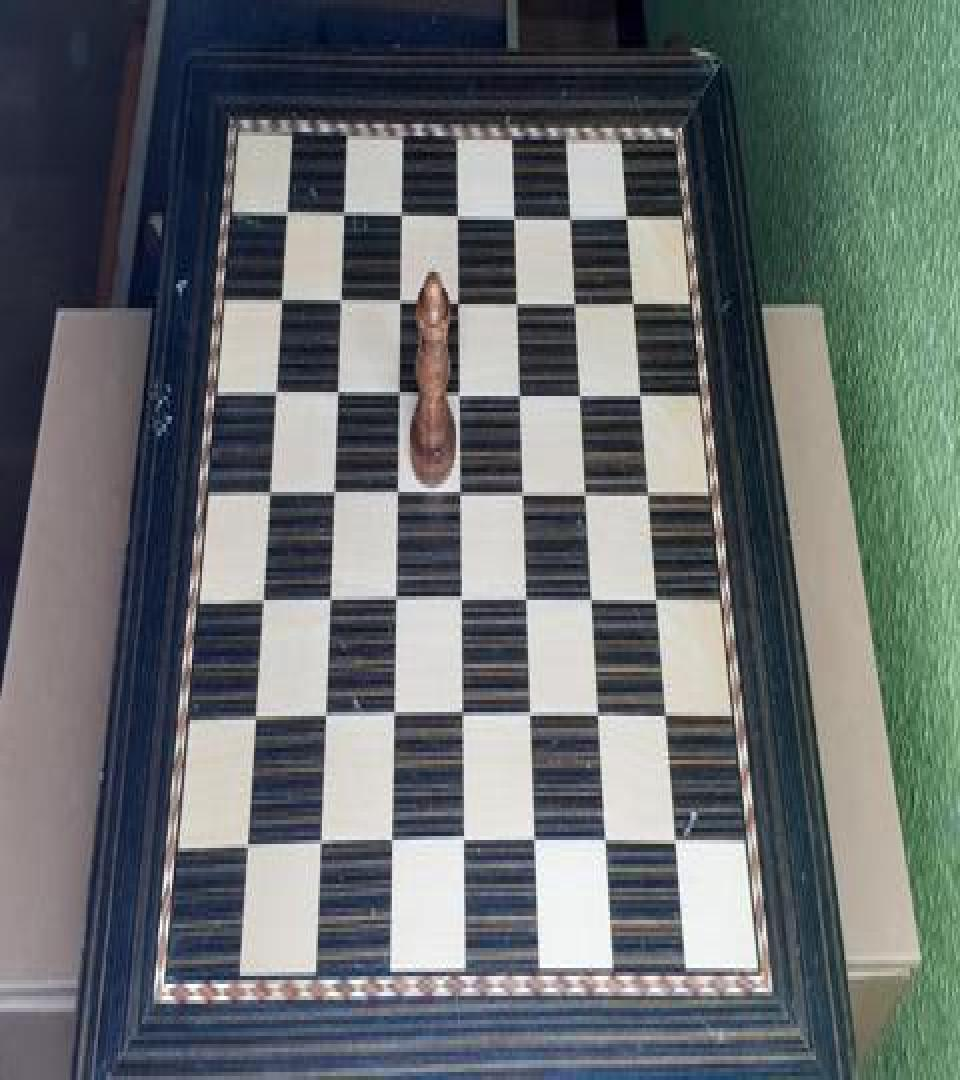xcorner: (276, 186, 294, 222), (270, 274, 288, 310), (264, 366, 282, 402), (258, 468, 276, 504), (251, 576, 269, 612), (243, 694, 261, 730), (235, 824, 253, 860), (334, 188, 352, 224), (330, 274, 348, 310), (327, 368, 345, 404), (322, 468, 340, 504), (318, 578, 336, 614), (313, 696, 331, 732), (308, 824, 326, 860), (392, 188, 410, 224), (390, 276, 408, 312), (389, 368, 407, 404), (387, 470, 405, 506), (385, 578, 403, 614), (383, 696, 401, 732), (381, 824, 399, 860), (449, 190, 467, 226), (450, 276, 468, 312), (450, 370, 468, 406), (451, 470, 469, 506), (452, 578, 470, 614), (453, 696, 471, 732), (454, 824, 472, 860), (506, 190, 524, 226), (509, 278, 527, 314), (512, 370, 530, 406), (515, 470, 533, 506), (519, 580, 537, 616), (522, 696, 540, 732), (526, 824, 544, 860), (564, 192, 582, 228), (568, 278, 586, 314), (574, 372, 592, 408), (579, 472, 597, 508), (585, 580, 603, 616), (592, 698, 610, 734), (599, 824, 617, 860), (621, 192, 639, 228), (627, 280, 645, 316), (635, 372, 653, 408), (643, 472, 661, 508), (651, 580, 669, 616), (660, 698, 678, 734), (671, 824, 689, 860)
